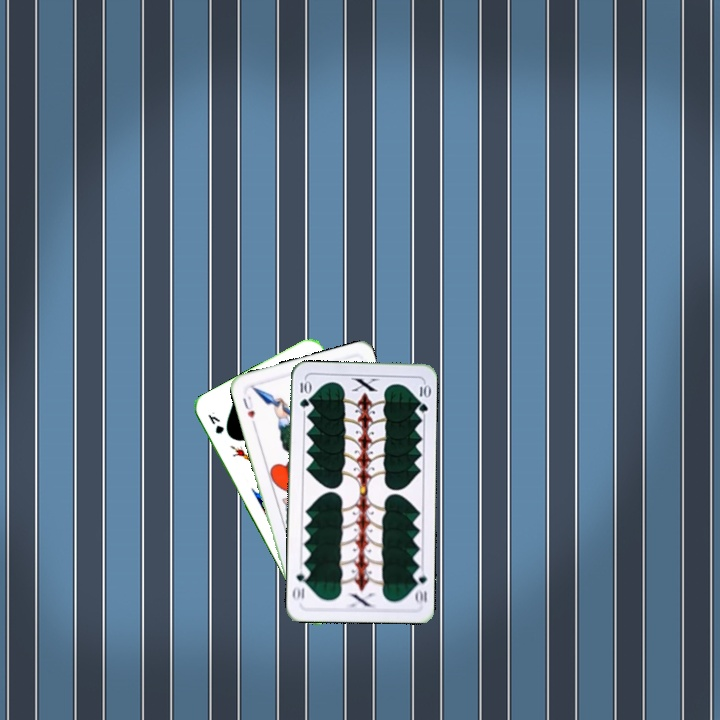G10: (410, 566, 430, 607), (296, 376, 311, 410)
GK: (204, 408, 226, 436)
HU: (239, 392, 257, 421)
